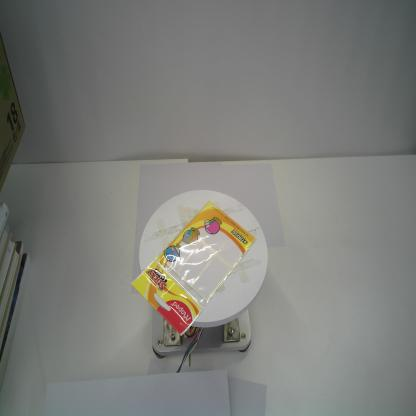Stationery: (129, 198, 256, 338)
